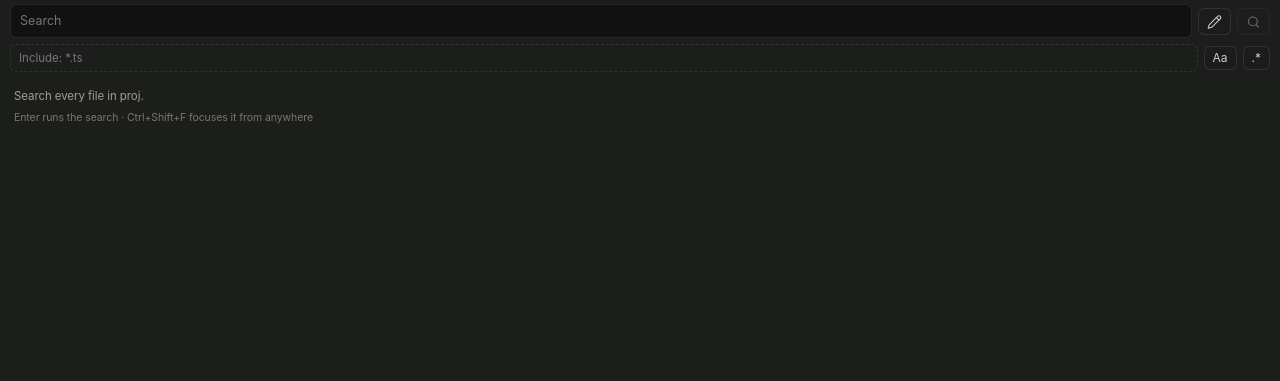
Test: SearchPanel replace preview › replace sends one line-exact edit per checked match, then re-searches
The image size is (1280, 381).
Type "hello" into the field with test id "ws-search-query". click: (601, 21)
box: [10,4,1192,38]
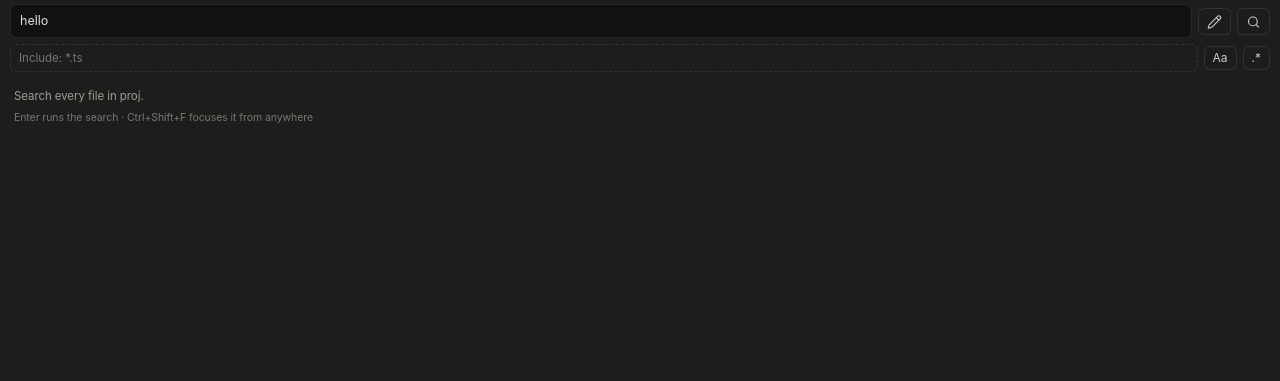
Click the button with test id "ws-search-run". click: (1254, 21)
box: [1237,8,1270,34]
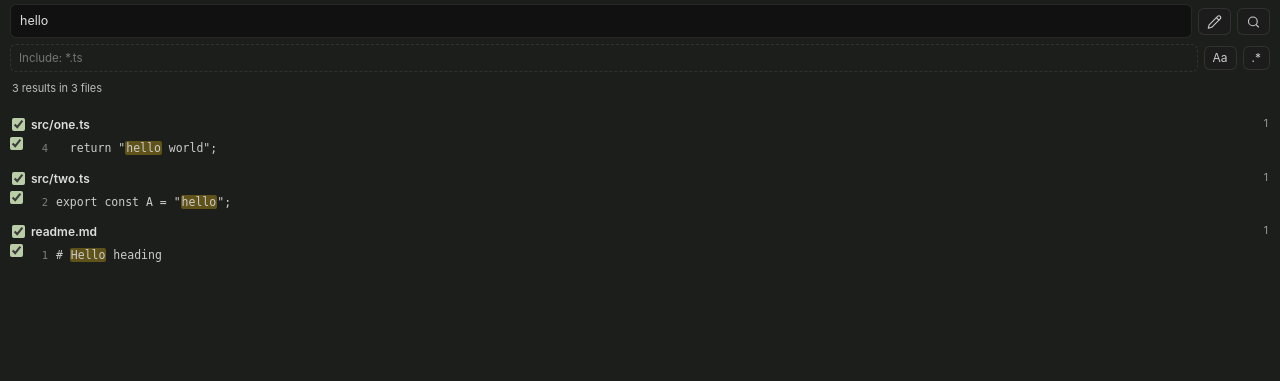
Click the button with test id "ws-search-replace-toggle". click: (1214, 21)
box: [1198,8,1231,34]
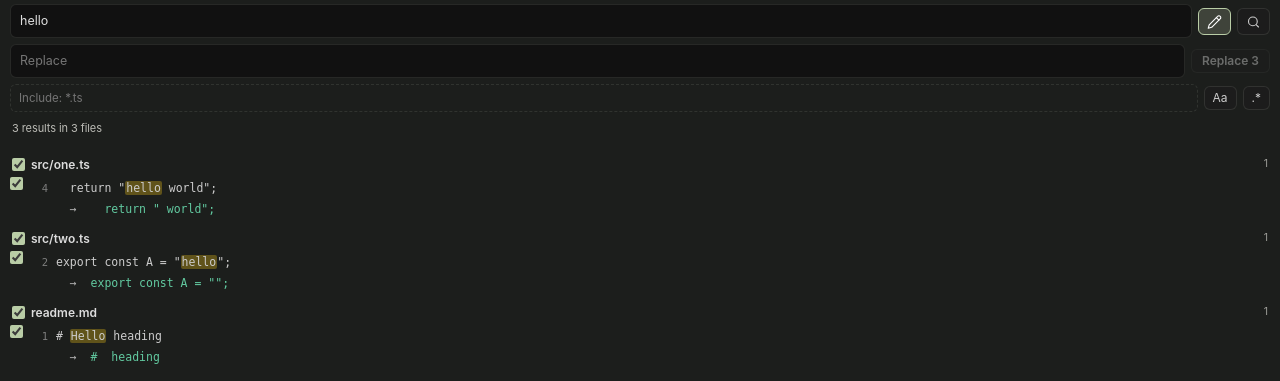
Type "goodbye" into the field with test id "ws-search-replacement". click: (598, 61)
box: [10,44,1185,78]
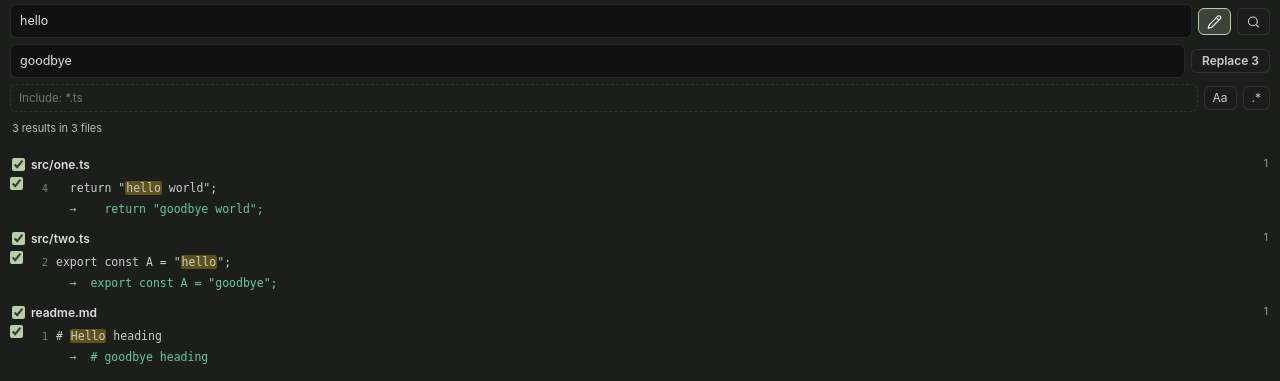
Click the button with test id "ws-search-replace-all". click: (1230, 61)
box: [1191,49,1270,73]
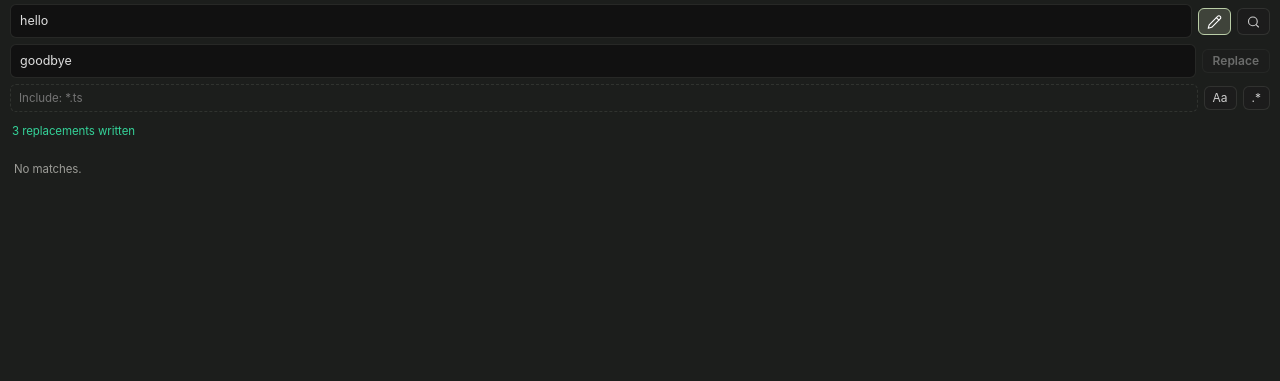
Expected: the text "No matches." is shown, [14,162,82,176]
Expected: the message with test id "ws-search-report" reads "3 replacements written", [12,124,135,138]
